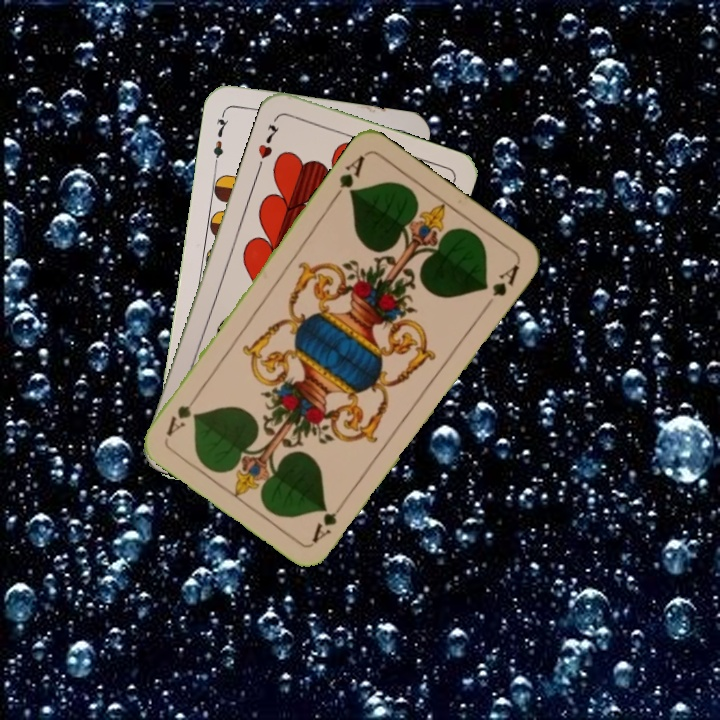E7: (209, 108, 232, 167)
GA: (308, 494, 349, 546), (329, 151, 368, 203)
H7: (254, 120, 282, 161)
